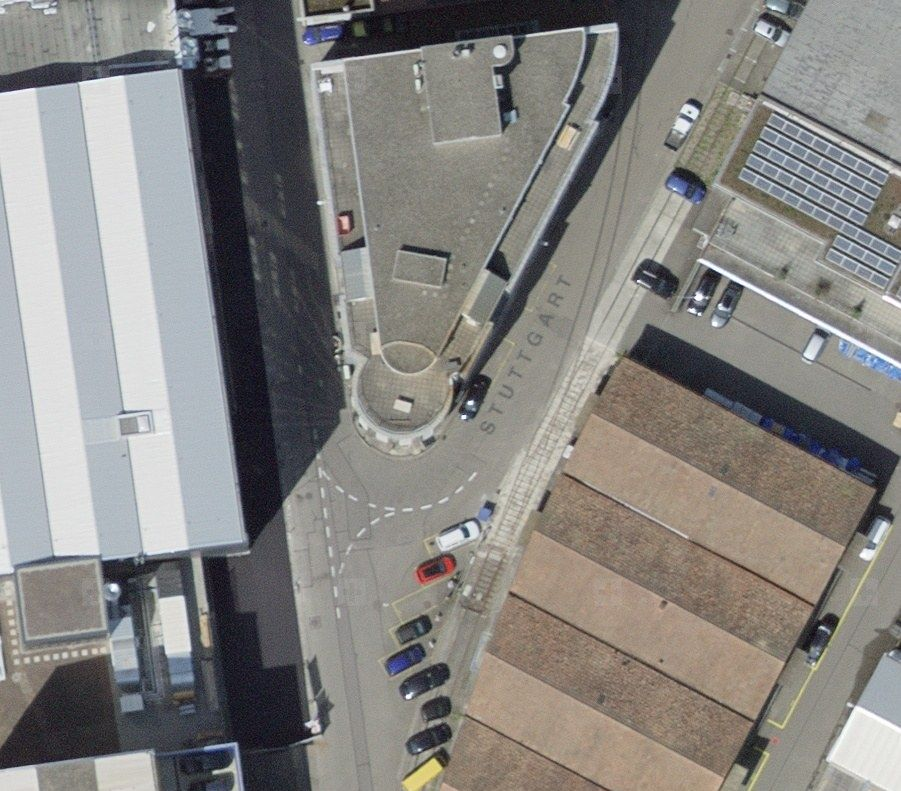solar: (737, 107, 901, 296)
